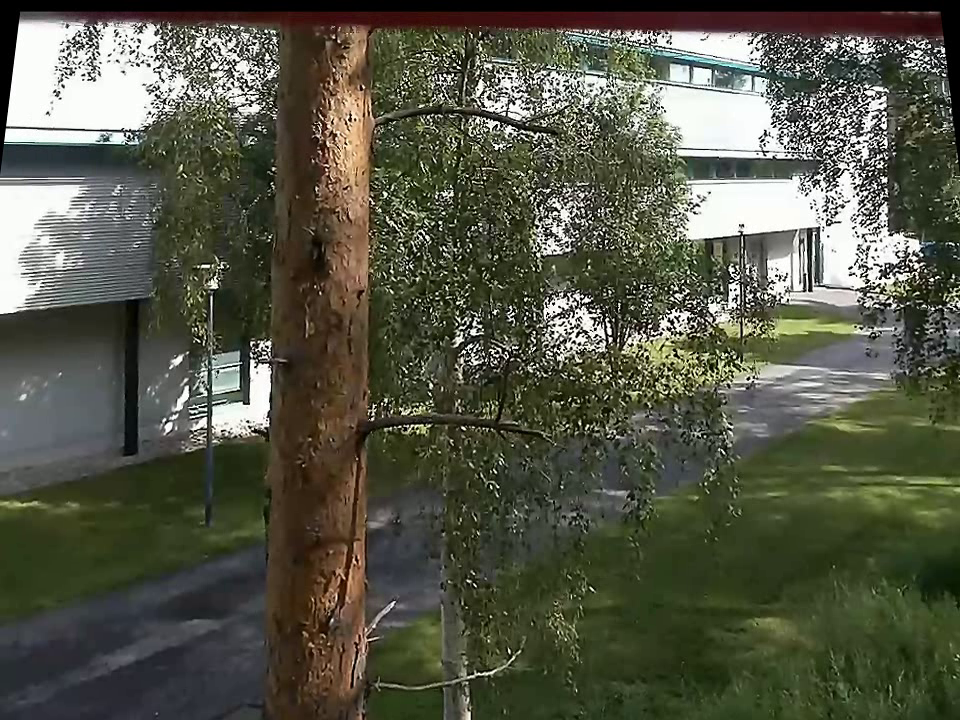branch: (371, 91, 579, 143), (377, 396, 563, 453), (374, 640, 529, 699)
trunk: (260, 28, 380, 714)
